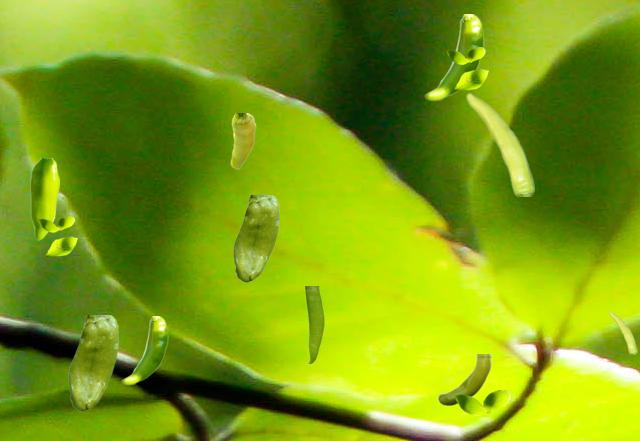green_chili: (466, 92, 533, 195), (424, 14, 483, 100), (68, 315, 117, 410), (233, 195, 278, 281), (121, 316, 167, 384), (437, 354, 491, 404), (30, 158, 58, 239), (304, 286, 323, 363), (230, 113, 255, 168), (609, 311, 636, 353)
